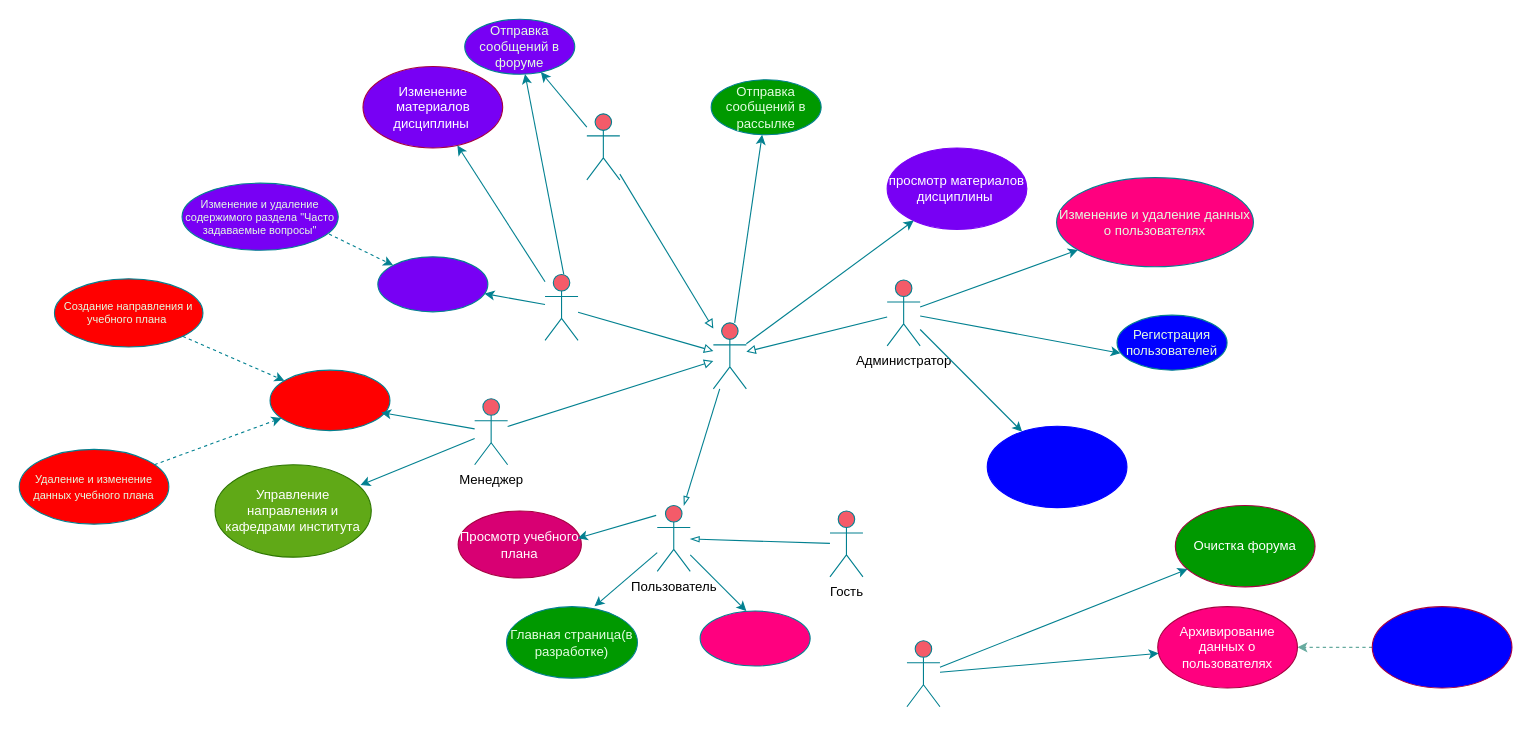
Some shapes in this 1531 by 749 pixel diagram are drawn without their labels. The centre of each missing label's shape, as x and y in pixels:
"Авторизация" belongs at point 754,638.
"Время" belongs at point 923,673.
"Зарегестрированный пользователь" belongs at point 729,355.
"Перевод Студента" belongs at point 1441,647.
"Преподаватель" belongs at point 561,306.
"Редактирование форума" belongs at point 432,284.
"Студент" belongs at point 603,146.
"Управление институтами" belongs at point 1056,466.
"Управление учебным планом" belongs at point 329,400.
